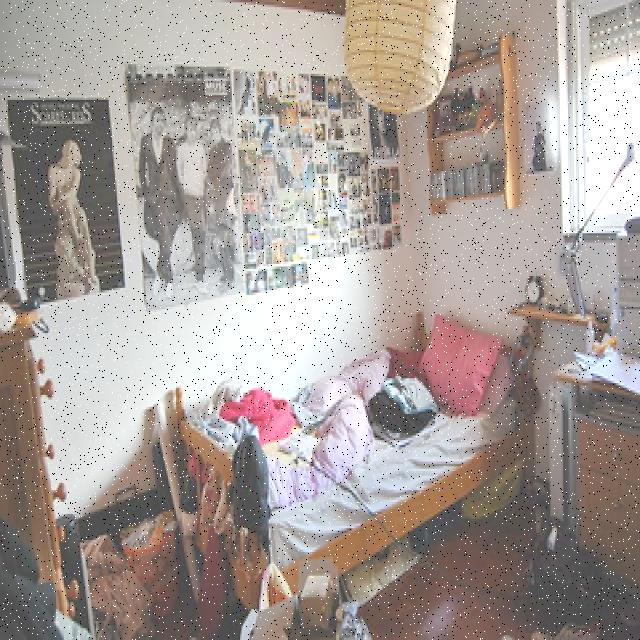bed: (189, 307, 512, 587)
